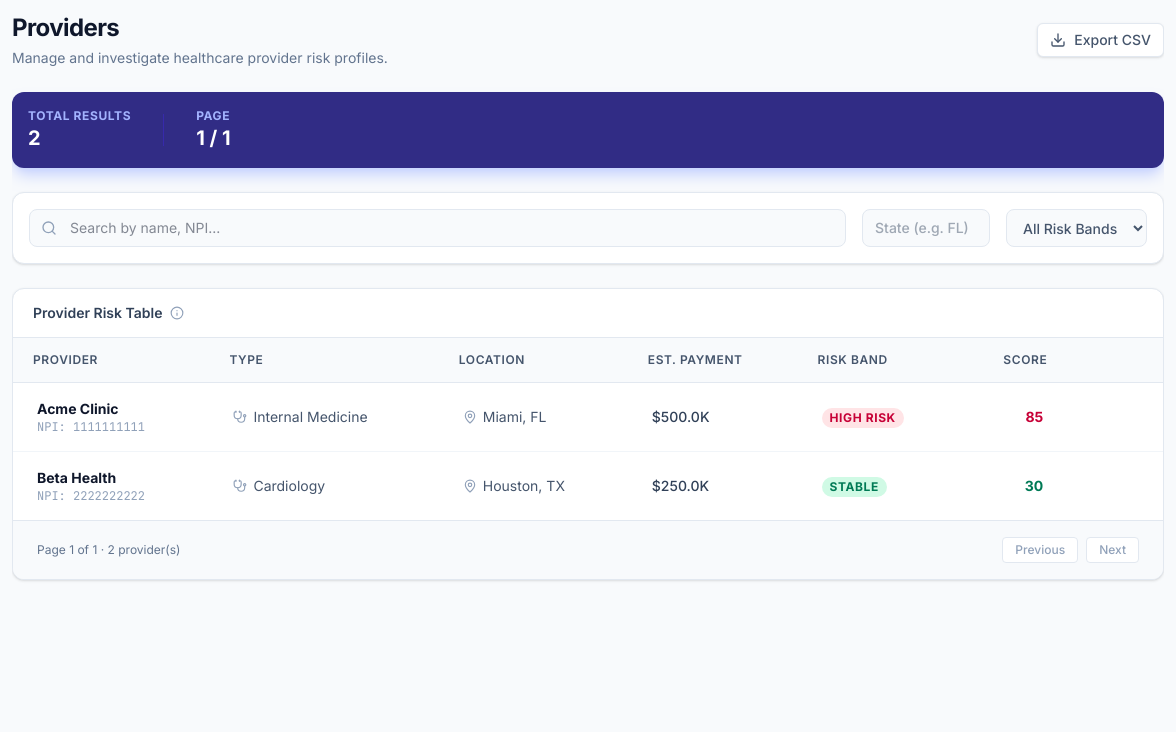
Test: Providers › typing in state filter uppercases and limits to 2 chars
Type "flo" into the field with placeholder "State (e.g. FL)".
click(926, 228); type("flo")  # box [862,209,990,247]
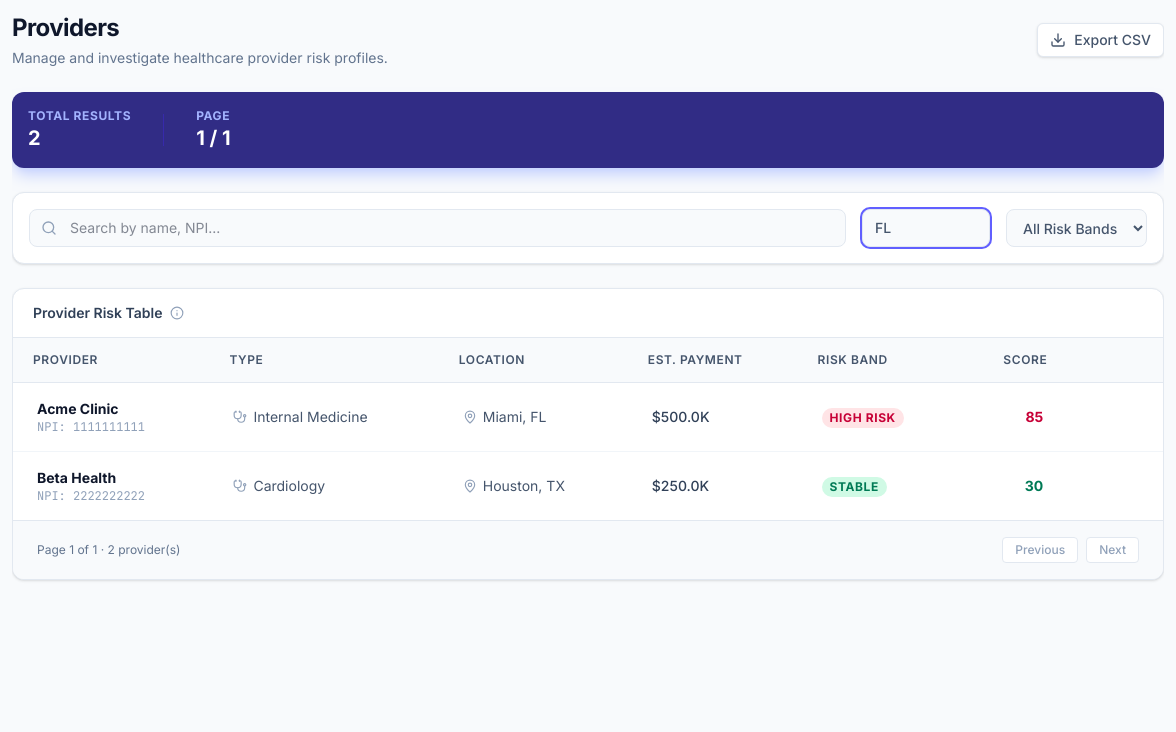
Expected: the field with placeholder "State (e.g. FL)" holds "FL", [862,209,990,247]
